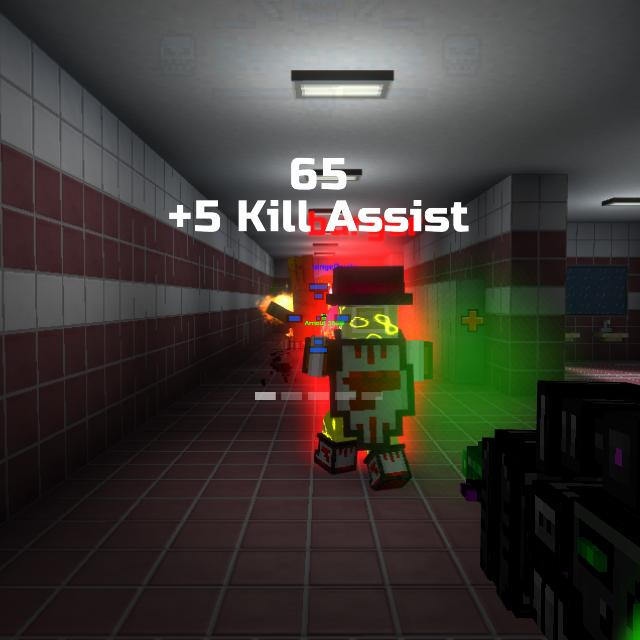Enemy: (306, 267, 438, 493)
